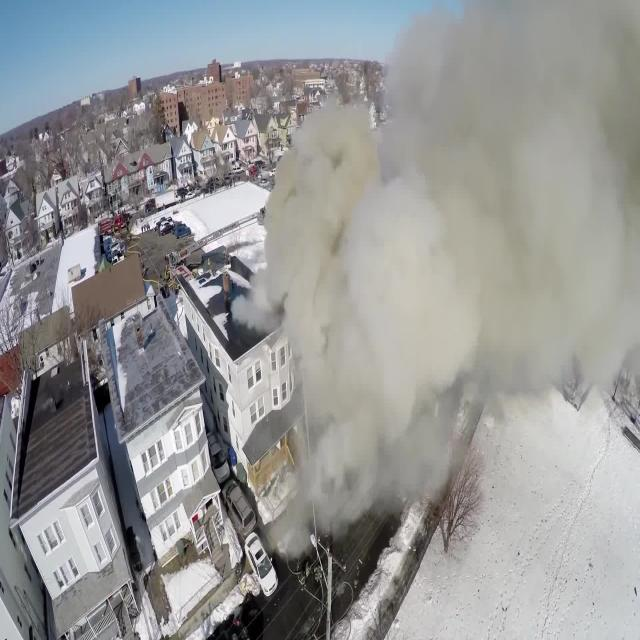Smoke: (231, 14, 640, 562)
